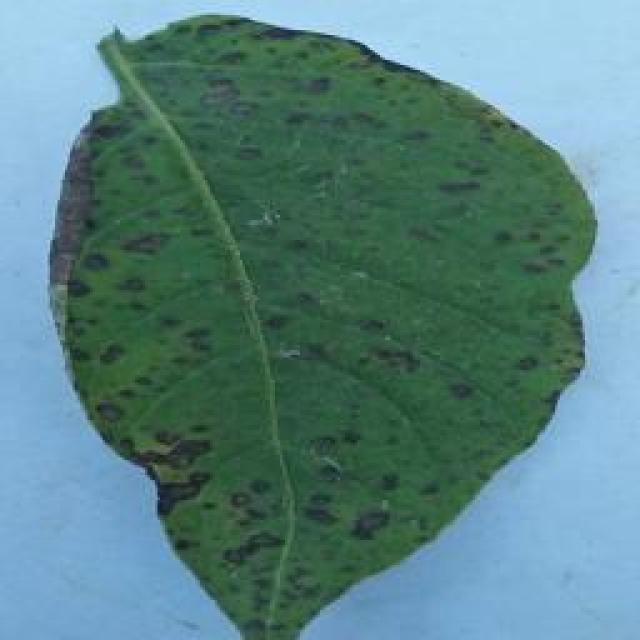Potato_Early_Blight: (0, 10, 630, 640)
